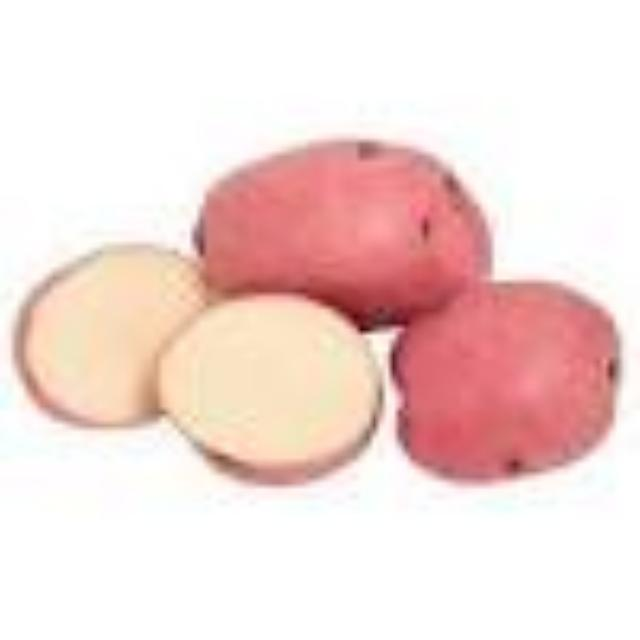Defected potato: (190, 134, 496, 336), (386, 278, 624, 492)
